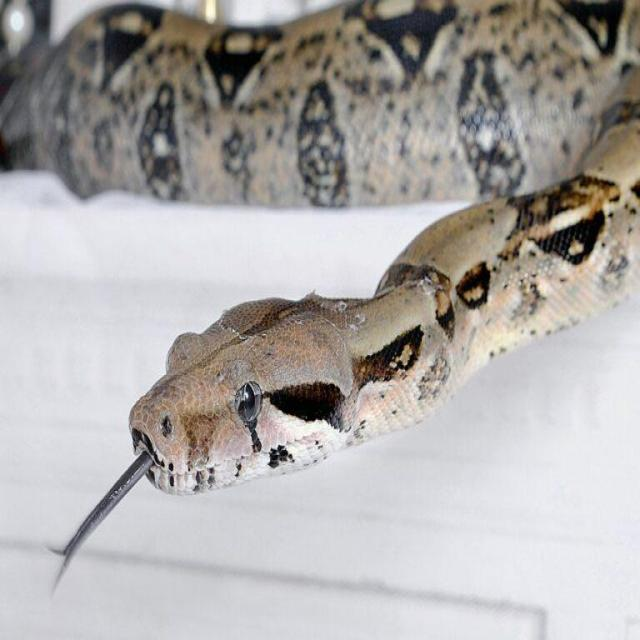Non-Venomous: (107, 312, 370, 483)
